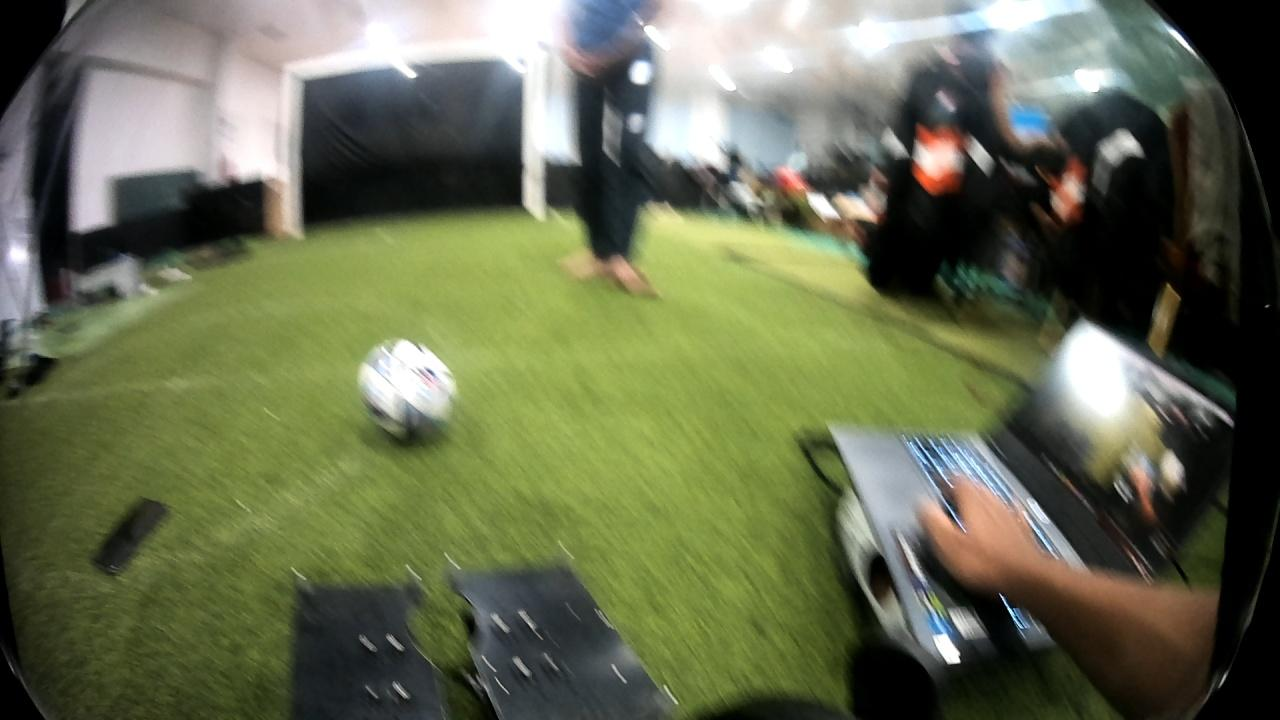ball: (347, 329, 471, 446)
